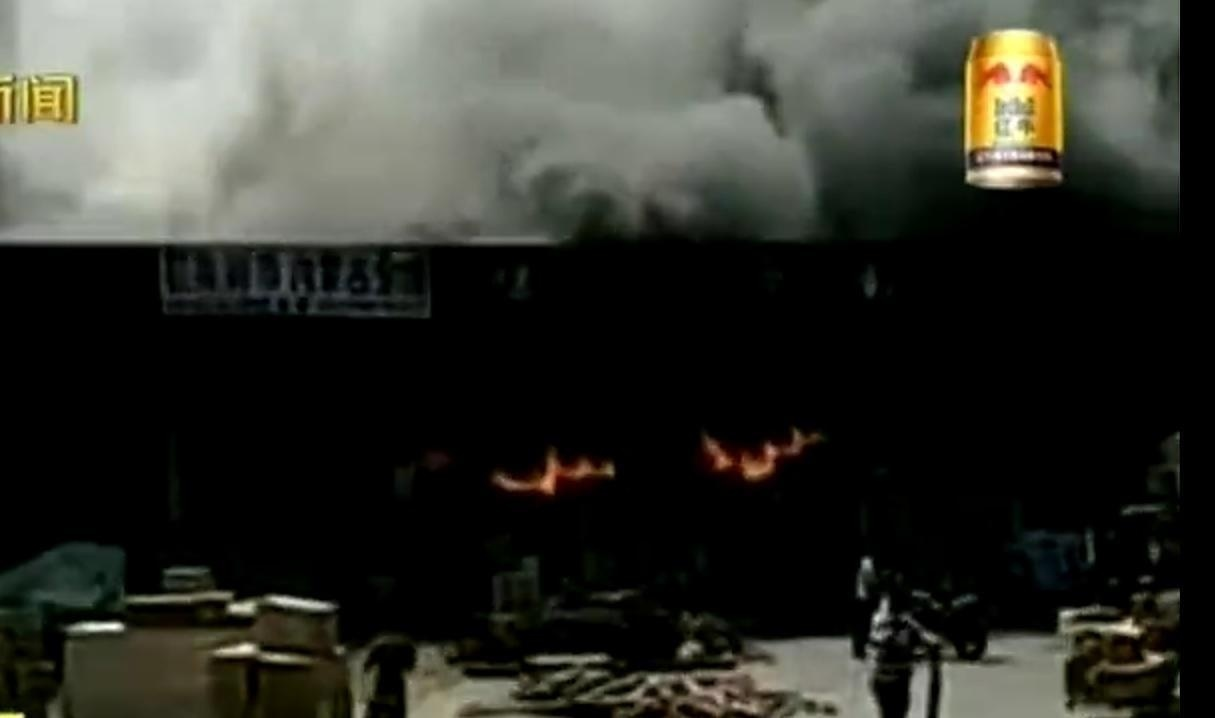fire: (698, 422, 818, 480), (493, 444, 618, 494)
